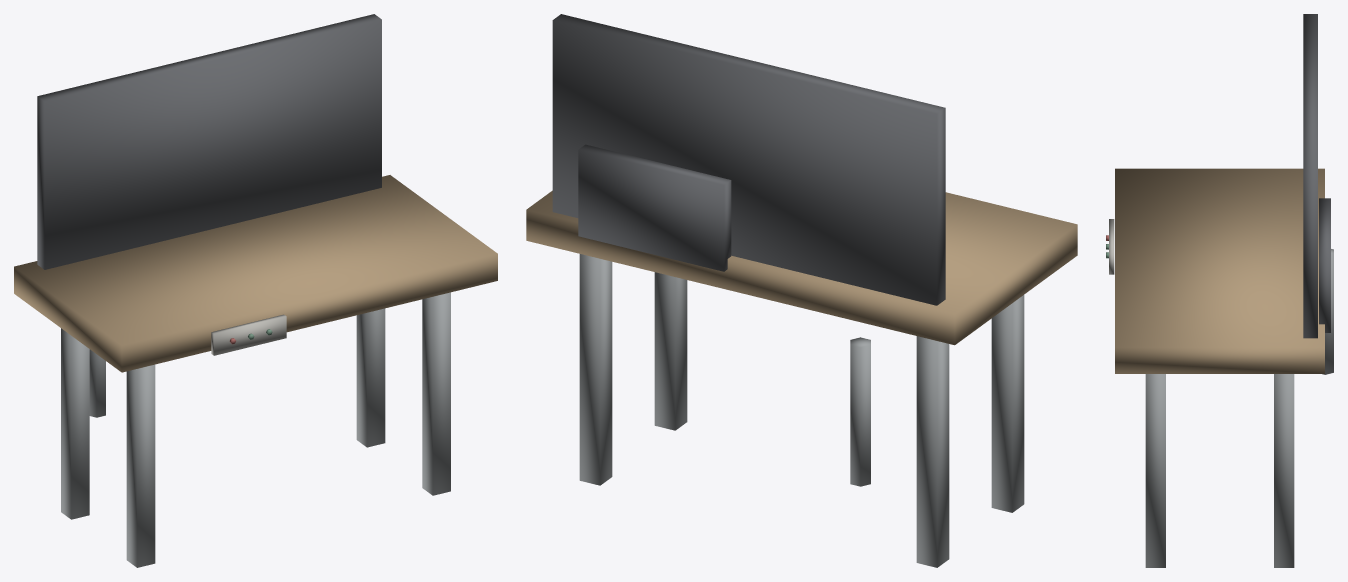
The model's file is basement_workbench__service.glb.
The picture shows the model from 3 angles, left to right: view 1: azimuth 30°, elevation 25°; view 2: azimuth 150°, elevation 25°; view 3: azimuth 270°, elevation 25°; orthographic projection. The views are drawn at different scales.
Parts seen in each view (by area): view 1: world; view 2: world; view 3: world.
Part boxes in pixels (x1,y1,x2,y2): world: (14, 14, 497, 567); world: (526, 14, 1077, 567); world: (1106, 14, 1333, 567).
Size of the model in its own units: 1.45 by 1.51 by 0.7813.
